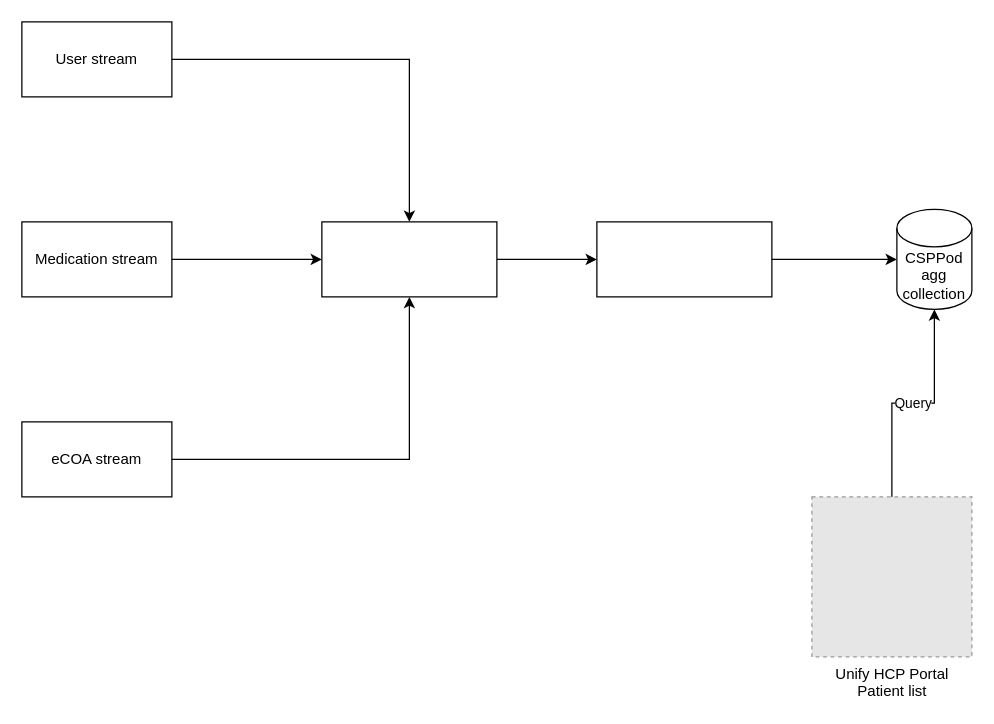
Image size: 994x724. Some labels were removed from this diagram. Grey dashed boxes stand in for pictures. The centre of each missing label's shape, as x and y in pixels:
"MongoDB sink connector" goes at [684,259].
"Unify agg stream join User stream join Medication stream join eCOA stream" goes at [409,259].
